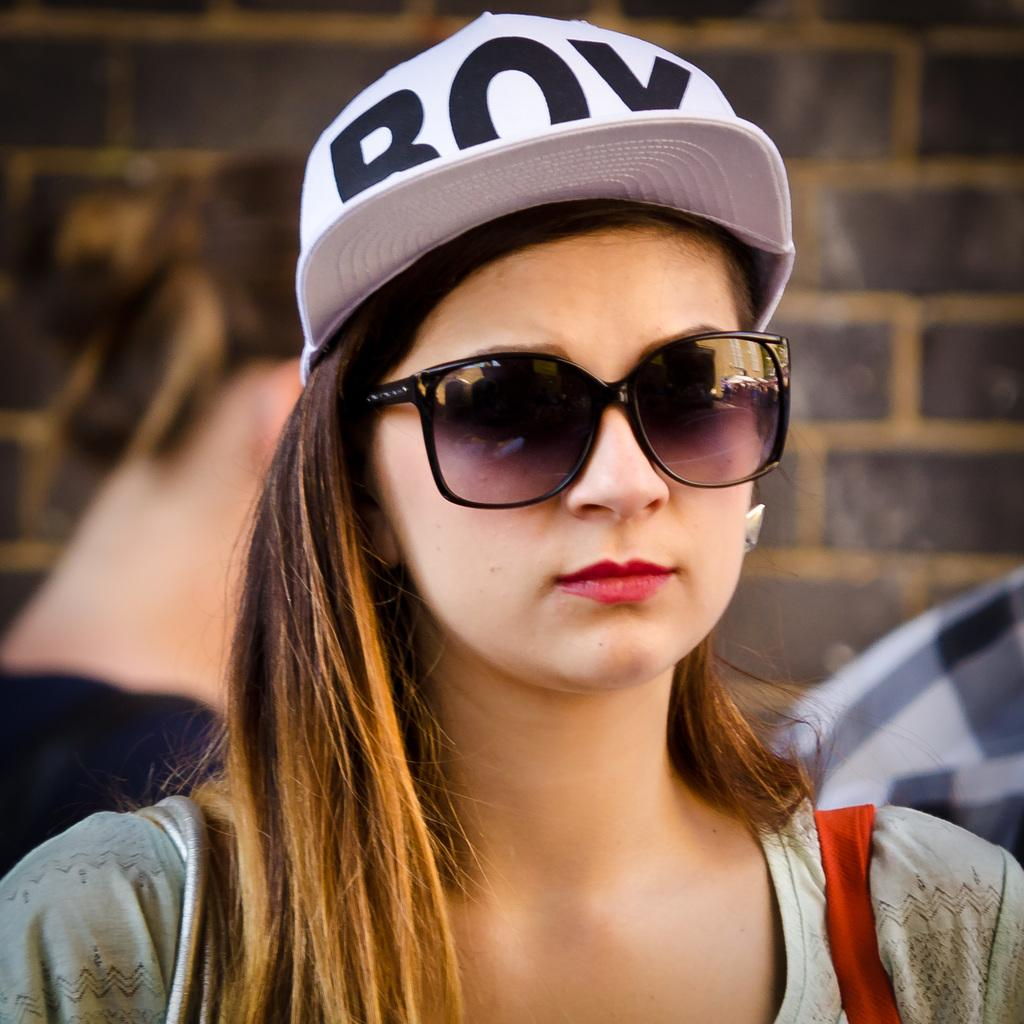Hat: (299, 8, 794, 373)
